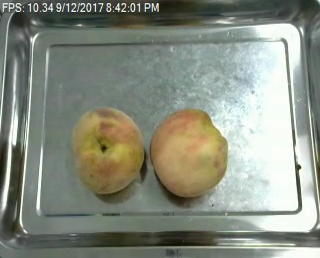Peach: (150, 108, 228, 197), (72, 106, 143, 194)
